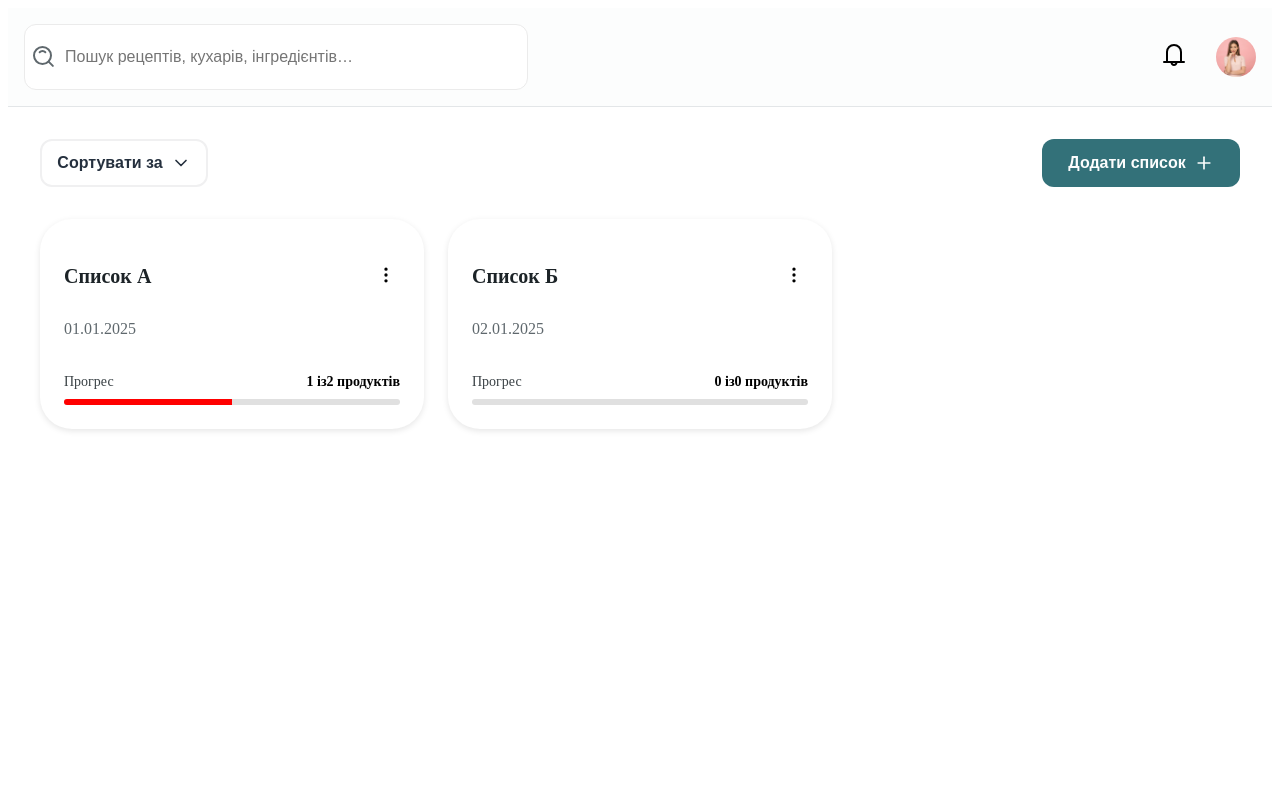
Test case: ShoppingListPage › редактирование списка открывает модальное окно с данными
Click the button without text in the row of "Список А". click: (386, 276)
box: 372,261 -> 400,292
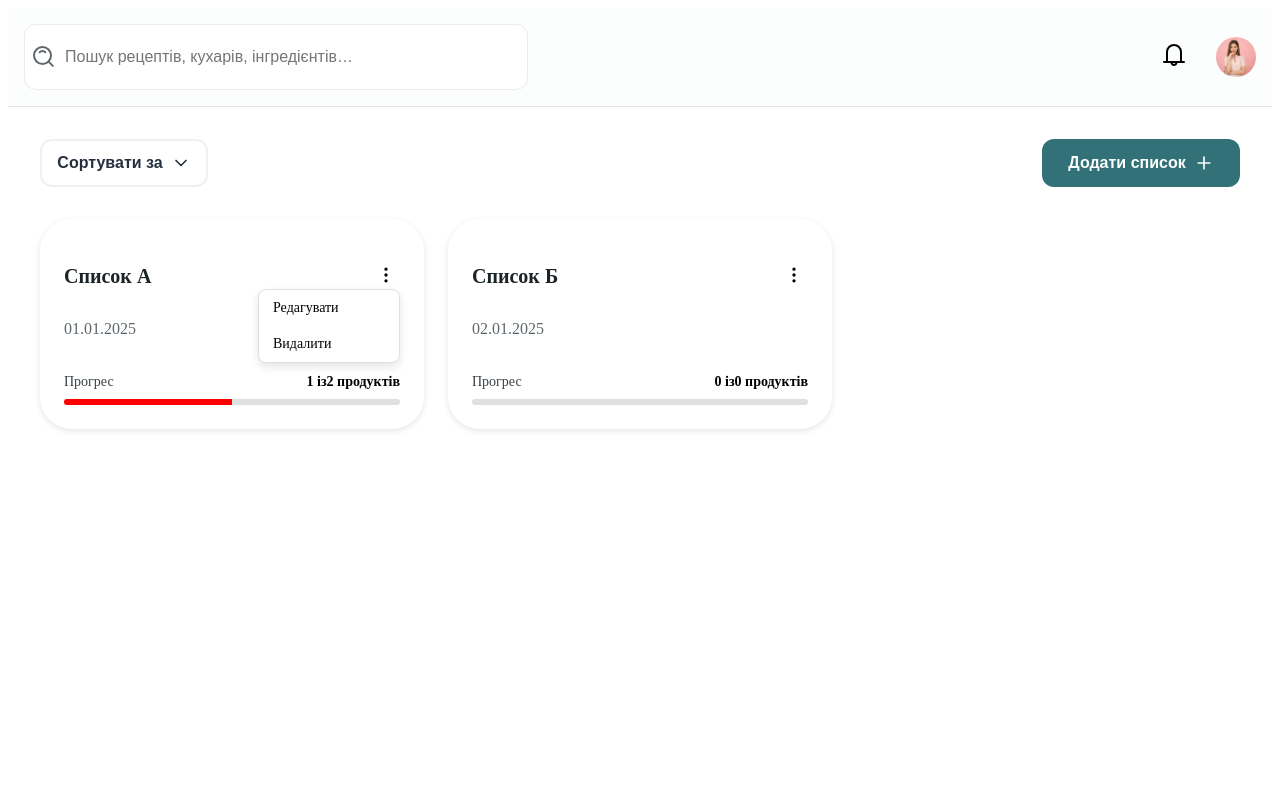
Click the text "Редагувати". click: (306, 308)
box: 273,300 -> 339,315
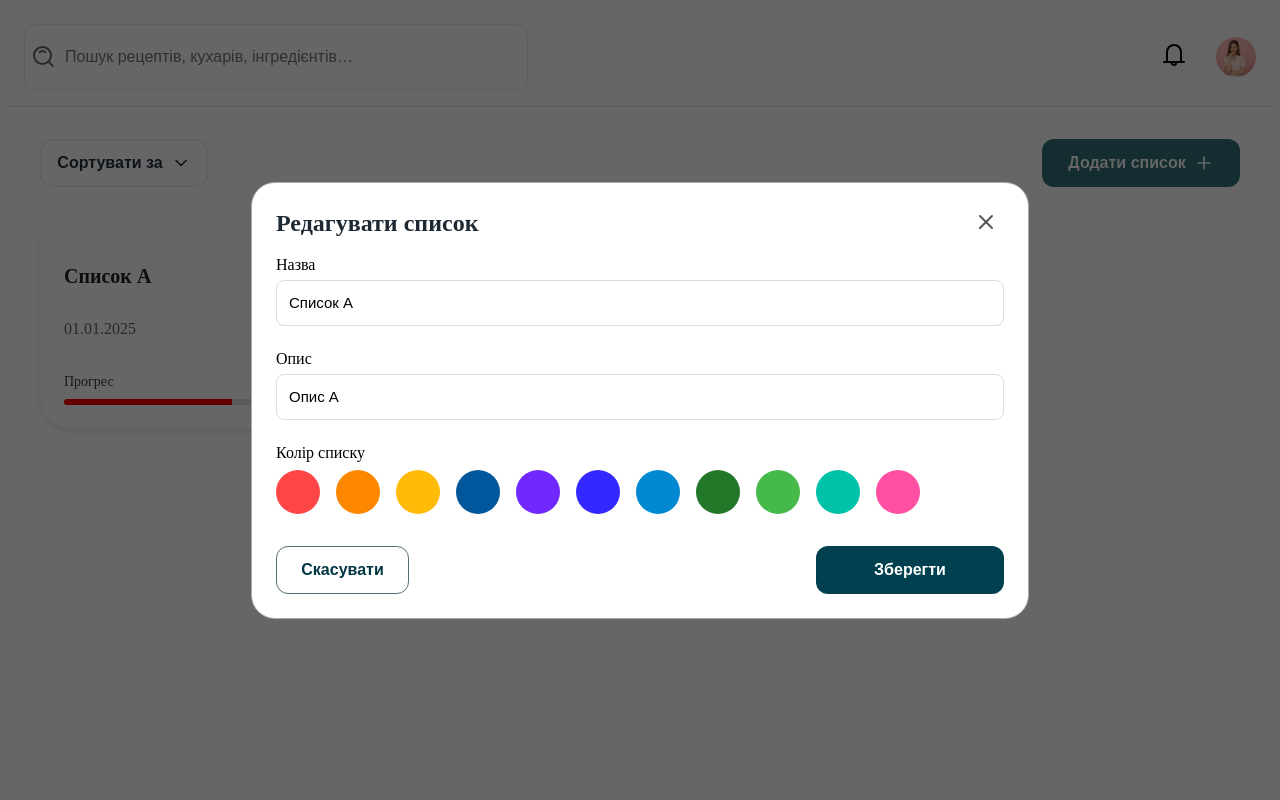
Result: the field showing "Список А" is shown at 276,280 -> 1004,326
Result: the field showing "Опис А" is shown at 276,374 -> 1004,420
